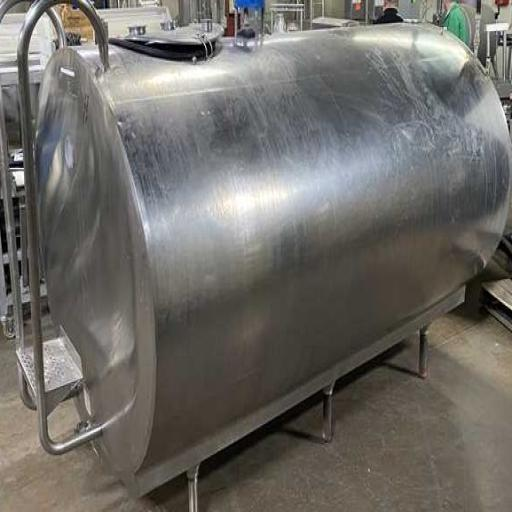silo: (32, 18, 511, 511)
